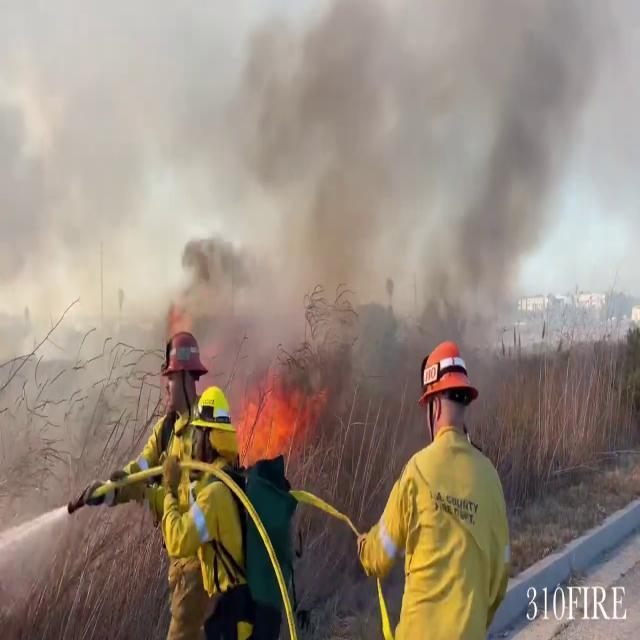Fire: (234, 376, 311, 472)
Smoke: (0, 0, 639, 361)
